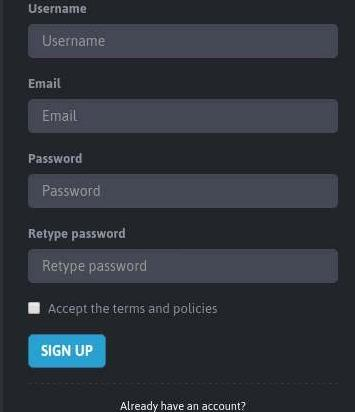button: (26, 331, 108, 371)
checkbox: (26, 299, 40, 316)
checkbox_with_label: (23, 298, 218, 318)
field: (25, 246, 339, 286), (24, 171, 343, 210), (26, 22, 341, 61), (23, 97, 341, 135)
field_with_label: (22, 227, 342, 288), (22, 153, 345, 213), (19, 79, 343, 138), (24, 4, 345, 63)
